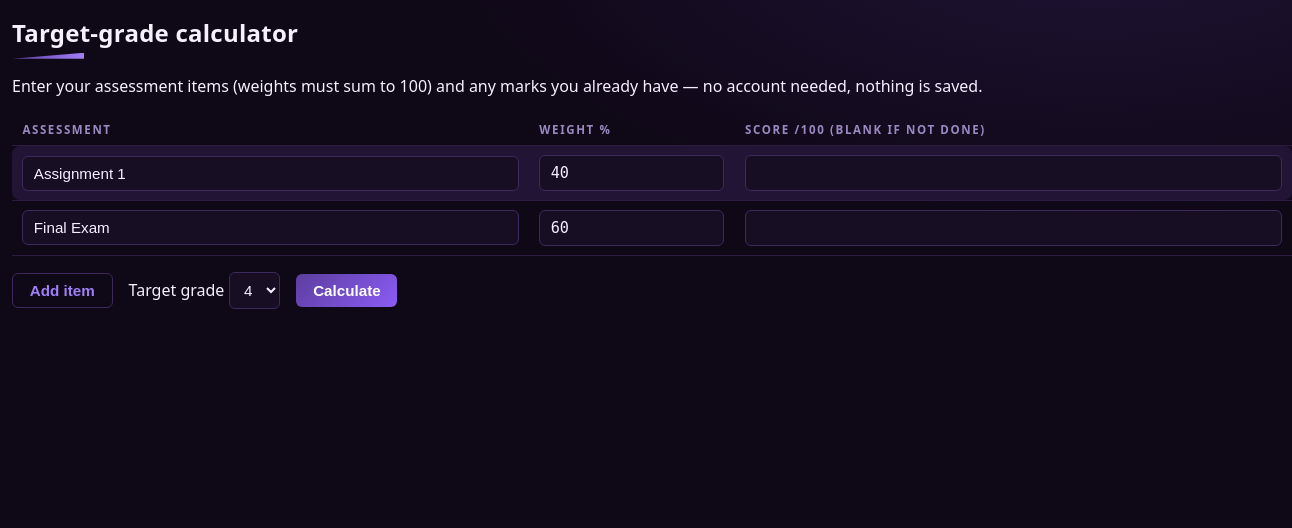
Test: submits the structure and shows the required average
This screenshot has width=1292, height=528.
Type "80" into the number field named "Item 1 score" at (1013, 173), box top-left (745, 155), bottom-right (1282, 191)
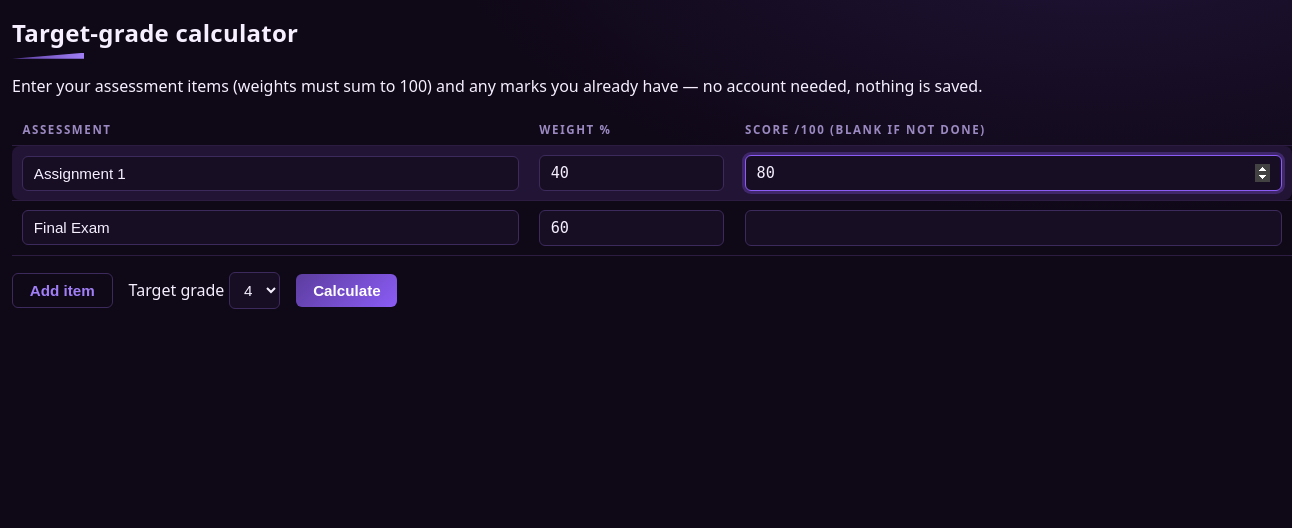
Click the button "Calculate" at (347, 290), box top-left (296, 274), bottom-right (397, 306)
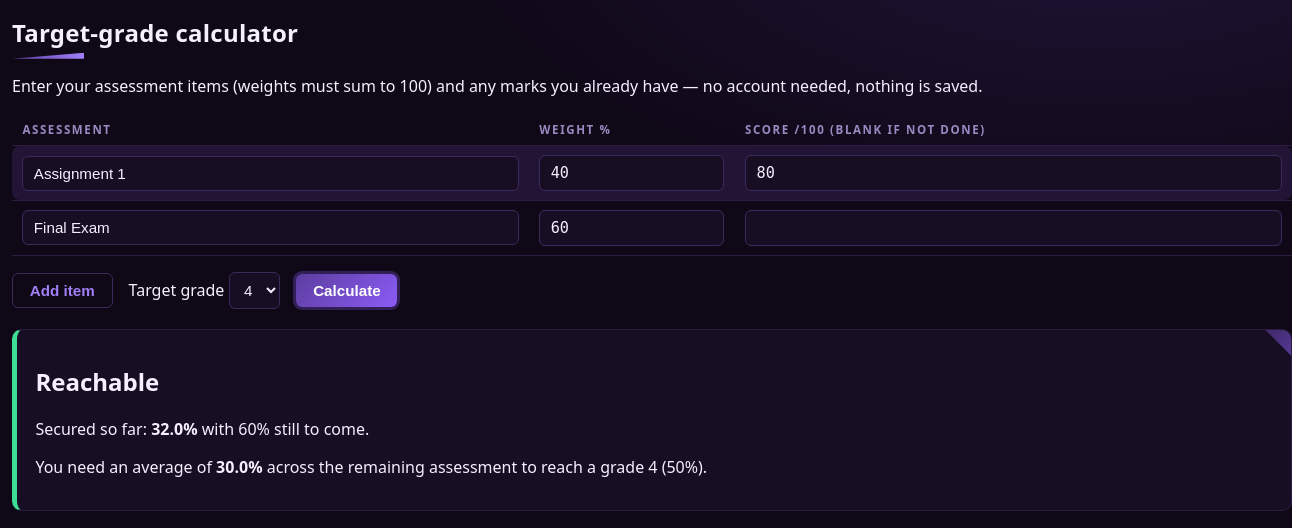
Result: the heading "Reachable" is shown at top-left (35, 365), bottom-right (159, 398)
Result: the text "30.0%" is shown at top-left (216, 456), bottom-right (263, 478)
Result: the text "32.0%" is shown at top-left (151, 418), bottom-right (198, 440)
